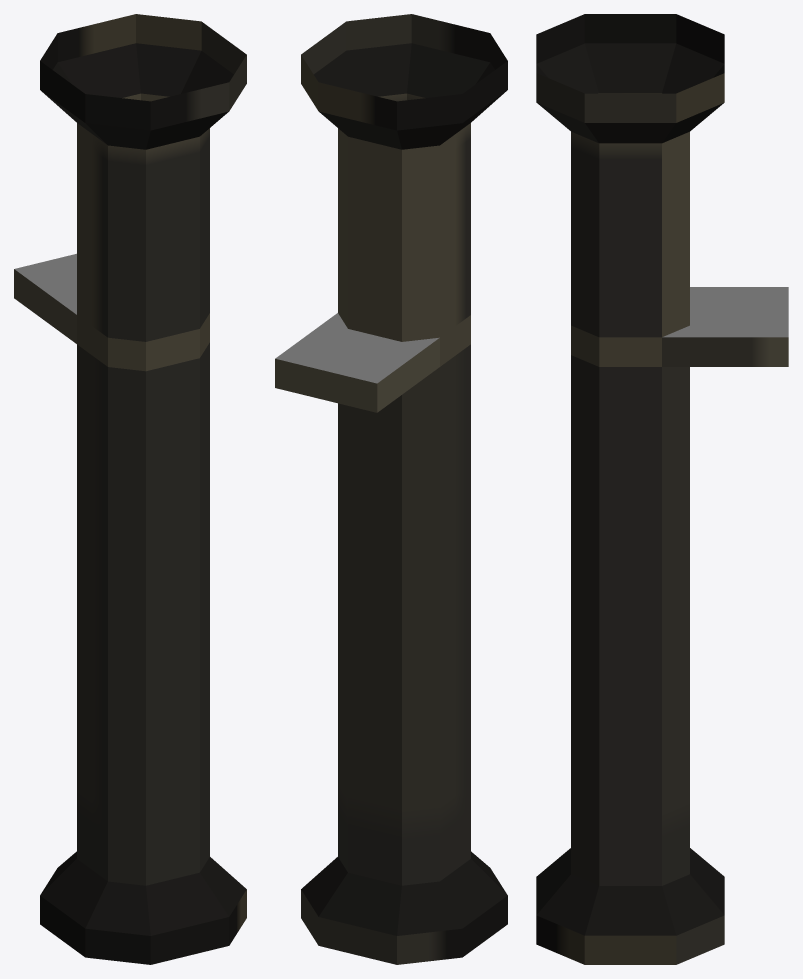
File: Pillar Platform.fbx
3 renders of one model, left to right at view 1: azimuth 30°, elevation 25°; view 2: azimuth 150°, elevation 25°; view 3: azimuth 270°, elevation 25°, orthographic.
Parts seen in each view (by area): view 1: Pillar; view 2: Pillar; view 3: Pillar.
Boxes of the visible parts, x1,y1,x2,y2 form: Pillar: (14, 14, 246, 964); Pillar: (275, 14, 507, 964); Pillar: (536, 14, 788, 964).
Size of the model in its own units: 236 by 1206 by 316.
